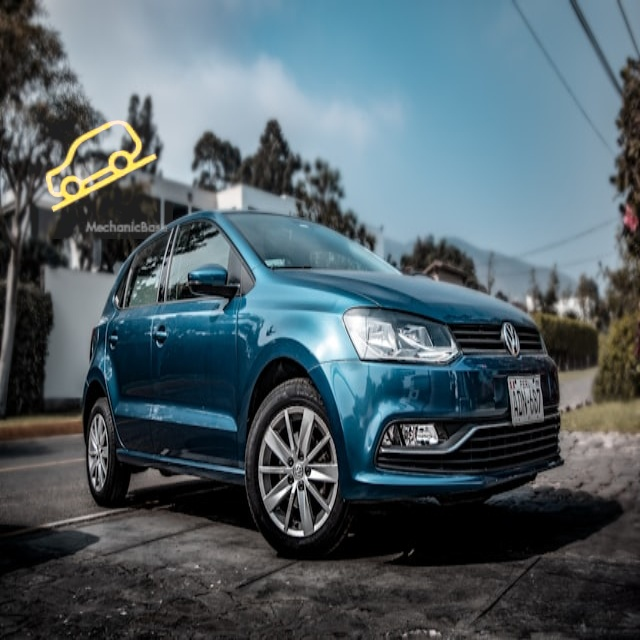symbol: (30, 96, 173, 239)
